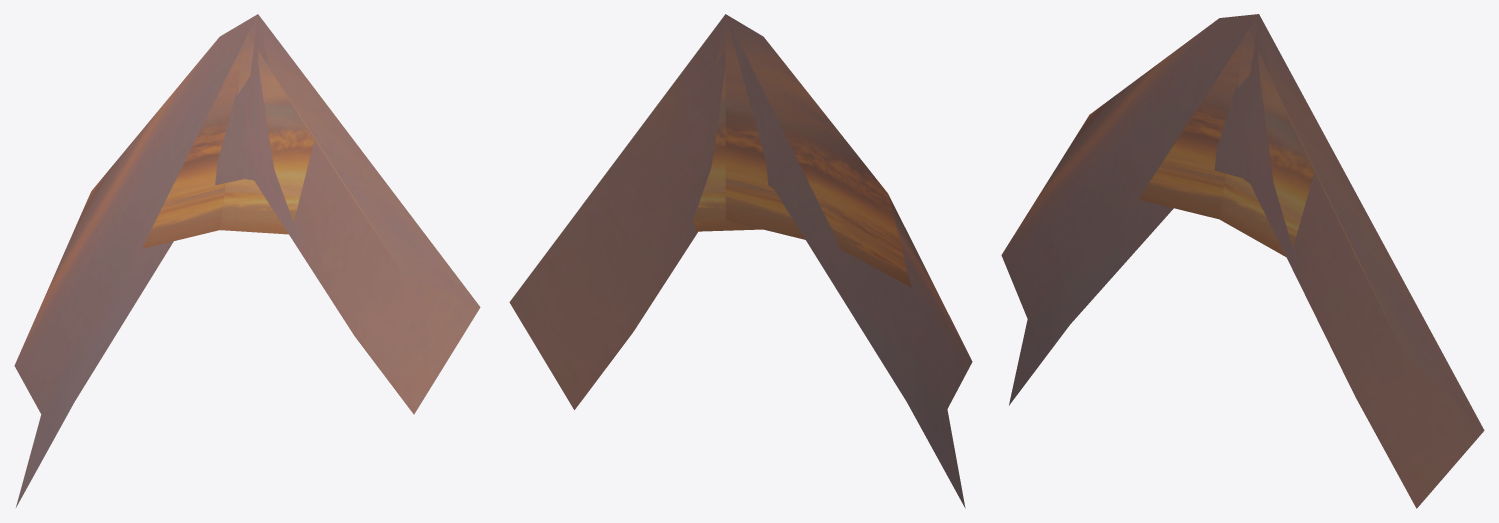
The picture shows the model from 3 angles, left to right: view 1: azimuth 30°, elevation 25°; view 2: azimuth 150°, elevation 25°; view 3: azimuth 330°, elevation 25°; orthographic projection. The views are drawn at different scales.
Parts seen in each view (by area): view 1: Origami_Model_43; view 2: Origami_Model_43; view 3: Origami_Model_43.
Part boxes in pixels (bbox=[...]): Origami_Model_43: bbox=[14, 14, 480, 507]; Origami_Model_43: bbox=[509, 14, 972, 508]; Origami_Model_43: bbox=[1001, 14, 1484, 508].
Size of the model in its own units: 0.4237 by 0.38 by 0.0075.
1 material, 1 textured.
